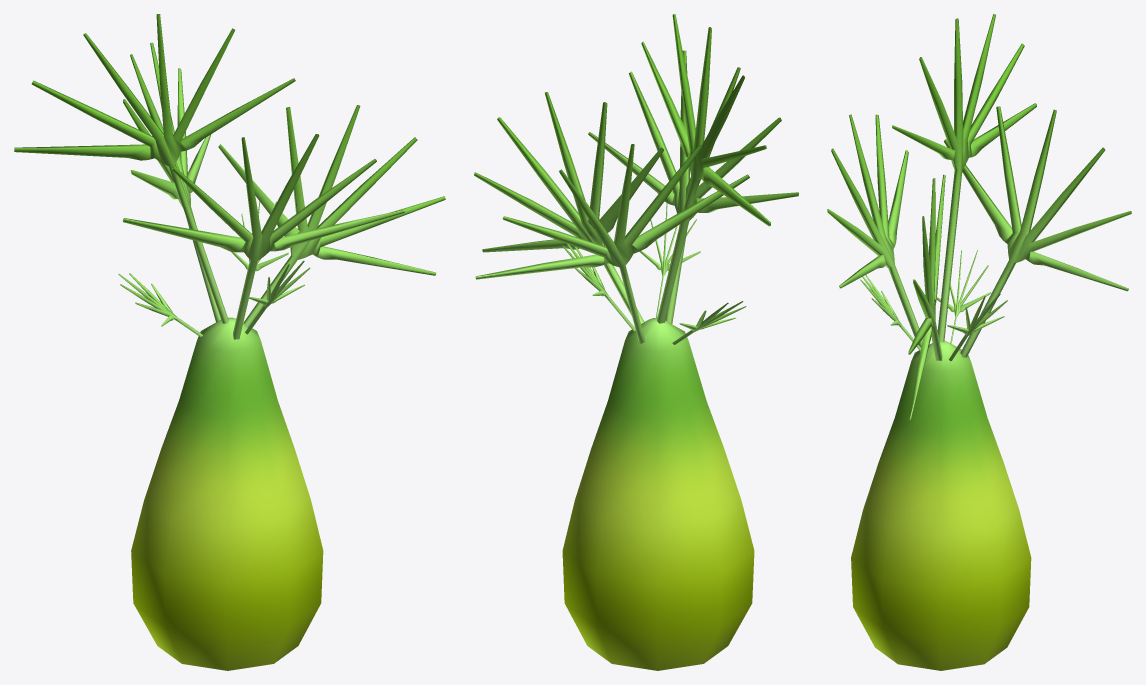
Rendered from Palm_frawnmini3.fbx.
3 renders of one model, left to right at view 1: azimuth 30°, elevation 25°; view 2: azimuth 150°, elevation 25°; view 3: azimuth 270°, elevation 25°, orthographic. The views are drawn at different scales.
Parts seen in each view (by area): view 1: tree_mini; view 2: tree_mini; view 3: tree_mini.
Boxes of the visible parts, left/top/right/bottom form: tree_mini: left=14, top=14, right=445, bottom=670; tree_mini: left=474, top=14, right=798, bottom=670; tree_mini: left=827, top=14, right=1131, bottom=670.
Size of the model in its own units: 0.4357 by 0.7262 by 0.3367.
